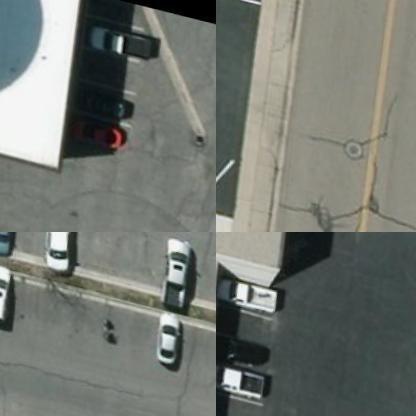car: (76, 9, 157, 66), (154, 232, 194, 302), (216, 271, 277, 313), (62, 110, 126, 148), (64, 80, 129, 117), (216, 360, 265, 403), (216, 328, 265, 371), (147, 307, 184, 362), (35, 232, 81, 271), (0, 258, 19, 330), (0, 232, 22, 255)
